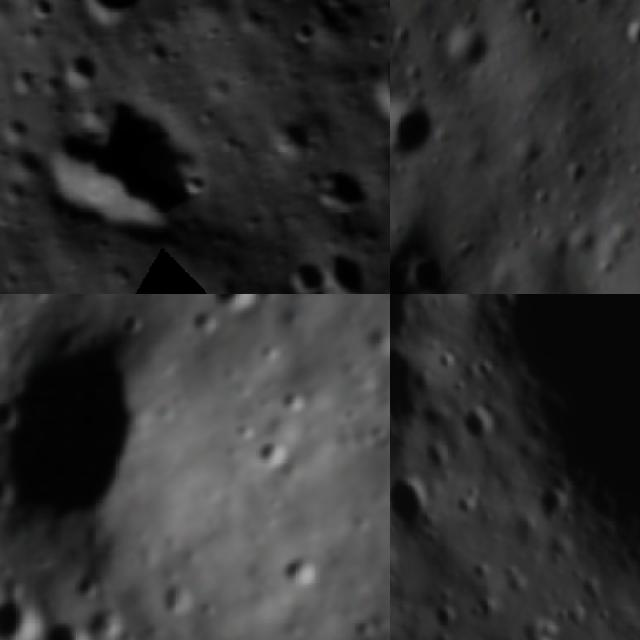crater: (21, 58, 233, 261), (492, 294, 640, 555), (0, 327, 150, 536), (302, 144, 380, 221), (347, 14, 390, 136), (258, 94, 327, 165), (316, 231, 385, 294), (271, 240, 335, 294), (390, 464, 436, 535), (390, 102, 433, 162), (390, 294, 445, 339), (71, 0, 158, 27), (412, 430, 458, 480), (282, 545, 328, 593), (0, 596, 48, 640), (460, 402, 501, 451), (160, 578, 197, 621), (532, 482, 569, 524), (13, 0, 62, 31), (440, 25, 480, 62), (276, 383, 316, 419), (405, 257, 441, 294), (498, 566, 532, 604), (256, 436, 290, 473), (425, 598, 459, 635), (464, 590, 498, 626), (516, 2, 550, 36), (450, 488, 484, 522), (194, 305, 226, 341), (471, 352, 502, 386), (45, 620, 94, 640), (74, 567, 102, 602), (514, 621, 563, 640), (118, 312, 150, 338), (231, 418, 258, 448), (427, 345, 453, 374), (0, 396, 18, 433), (390, 537, 405, 579), (625, 17, 640, 58), (0, 472, 14, 509), (594, 603, 612, 625)
